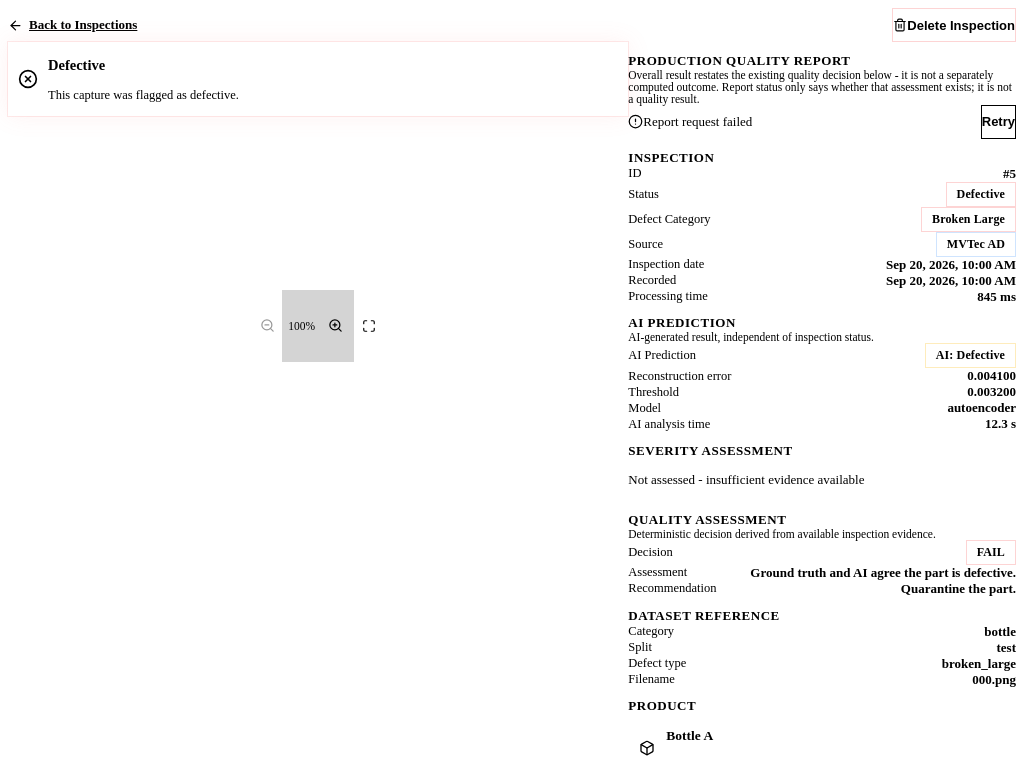
Test: InspectionDetailPage › production quality report › Retry requests the report again and shows it once it loads
What coordinates should you click on to do the following:
click the button "Retry"
I would click on:
 (998, 122)
Its box is [981, 105, 1016, 139].
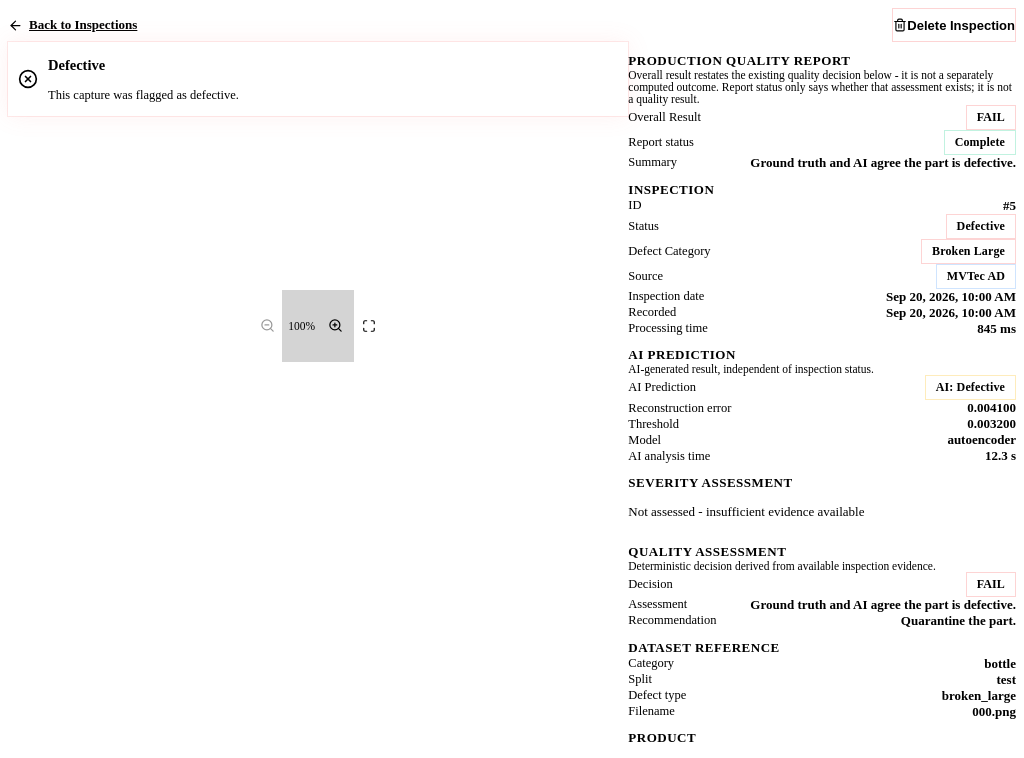
expect the text "Complete" is shown: met, box [944, 130, 1016, 155]
expect the message "Report request failed Retry" is gone: met
